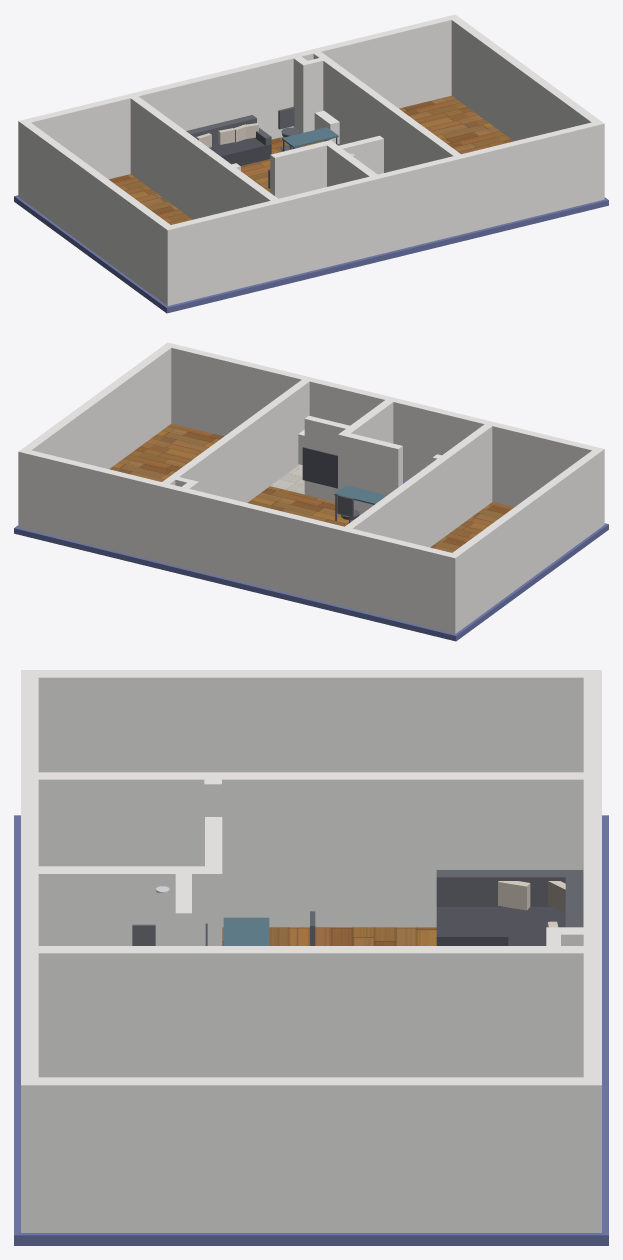
3 views of the same model, one above another, from view 1: azimuth 30°, elevation 25°; view 2: azimuth 150°, elevation 25°; view 3: azimuth 270°, elevation 25° (orthographic). The views are drawn at different scales.
Parts seen in each view (by area): view 1: Mesh_10, Mesh_8, Mesh_9, Mesh_11, Mesh_12, Mesh_13, Mesh_7, Mesh_17, Mesh_2, Mesh_4, Mesh_14, Mesh_1 (+10 smaller); view 2: Mesh_8, Mesh_10, Mesh_9, Mesh_11, Mesh_12, Mesh_13, Mesh_0, Mesh_17, Mesh_7, Mesh_5, Mesh_19, Mesh_4 (+5 smaller); view 3: Mesh_11, Mesh_13, Mesh_12, Mesh_9, Mesh_18, Mesh_8, Mesh_10, Mesh_0, Mesh_2, Mesh_36, Mesh_5, Mesh_34 (+7 smaller).
Boxes of the visible parts, x1,y1,x2,y2 form: Mesh_10: [163, 120, 604, 305]; Mesh_8: [18, 14, 459, 199]; Mesh_9: [23, 122, 175, 305]; Mesh_11: [451, 18, 599, 141]; Mesh_12: [130, 96, 278, 219]; Mesh_13: [313, 52, 460, 172]; Mesh_7: [399, 95, 513, 154]; Mesh_17: [270, 140, 334, 198]; Mesh_2: [374, 197, 608, 262]; Mesh_4: [109, 174, 192, 224]; Mesh_14: [293, 56, 311, 133]; Mesh_1: [117, 271, 284, 313]; Mesh_8: [18, 448, 459, 633]; Mesh_10: [163, 342, 604, 527]; Mesh_9: [452, 449, 604, 630]; Mesh_11: [23, 346, 171, 468]; Mesh_12: [345, 424, 492, 547]; Mesh_13: [162, 379, 309, 502]; Mesh_0: [14, 525, 559, 641]; Mesh_17: [338, 431, 402, 515]; Mesh_7: [109, 423, 223, 481]; Mesh_5: [247, 486, 359, 526]; Mesh_19: [304, 416, 349, 501]; Mesh_4: [430, 502, 513, 552]; Mesh_11: [38, 1077, 583, 1232]; Mesh_13: [38, 946, 583, 1077]; Mesh_12: [38, 772, 583, 927]; Mesh_9: [21, 670, 583, 772]; Mesh_18: [38, 866, 204, 945]; Mesh_8: [583, 670, 601, 1232]; Mesh_10: [21, 670, 38, 1232]; Mesh_0: [205, 815, 608, 1245]; Mesh_2: [14, 1014, 204, 1245]; Mesh_36: [436, 870, 583, 906]; Mesh_5: [222, 927, 436, 945]; Mesh_34: [436, 907, 508, 945].
Size of the model in its own units: 12.81 by 2.25 by 7.67.
Materials: 16 (5 with a texture image).
